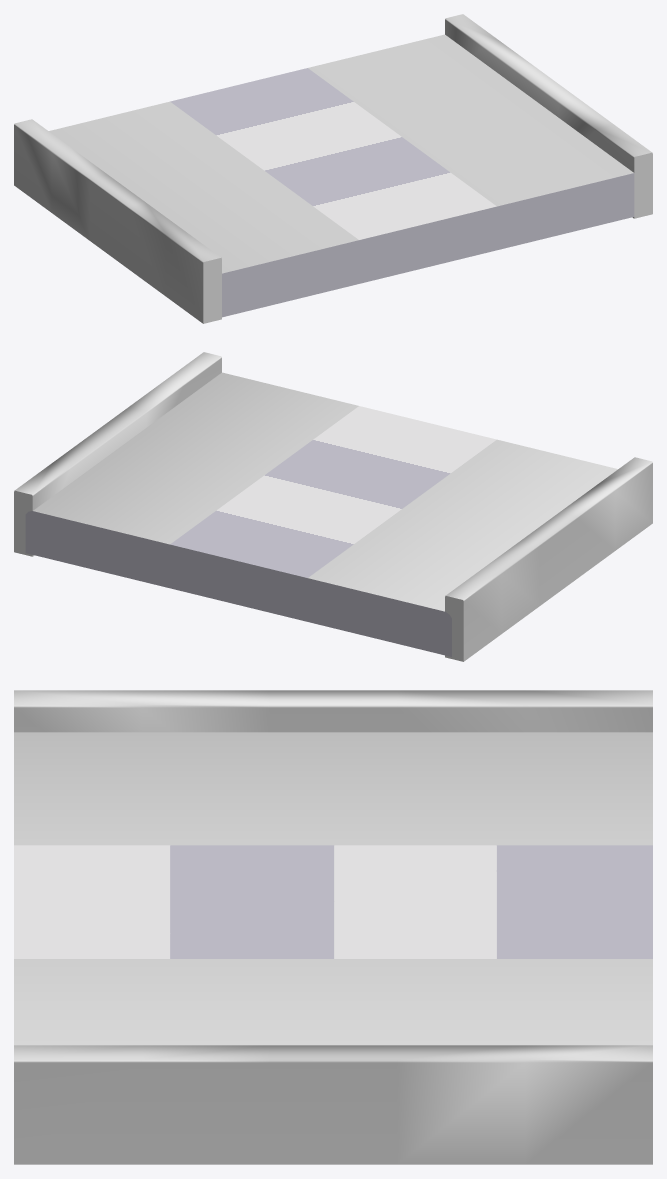
Rendered from Main_Platform_new.fbx.
3 renders of one model, top to bottom at view 1: azimuth 30°, elevation 25°; view 2: azimuth 150°, elevation 25°; view 3: azimuth 270°, elevation 25°, orthographic. The views are drawn at different scales.
Parts seen in each view (by area): view 1: Platform_7X7; view 2: Platform_7X7; view 3: Platform_7X7.
Boxes of the visible parts, box(x1,y1,x2,y2) form: Platform_7X7: box(14, 14, 652, 323); Platform_7X7: box(14, 352, 652, 661); Platform_7X7: box(14, 690, 652, 1164).
Size of the model in its own units: 960 by 126 by 700.
4 materials, 1 textured.
